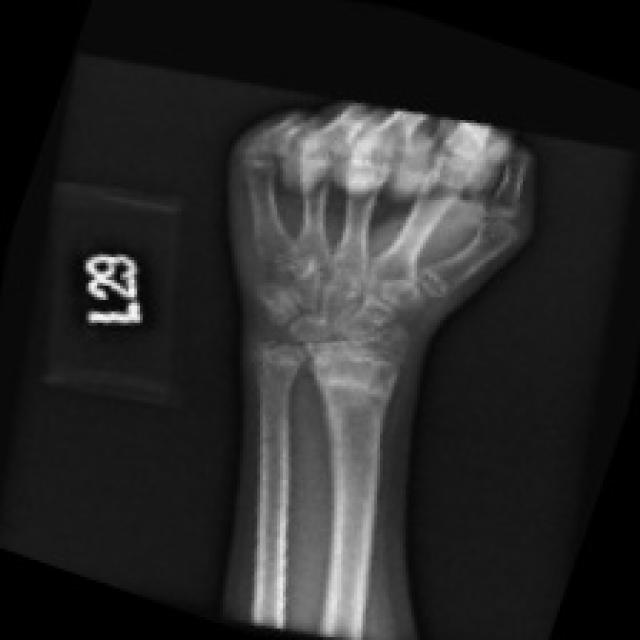fracture: (389, 258, 470, 335)
